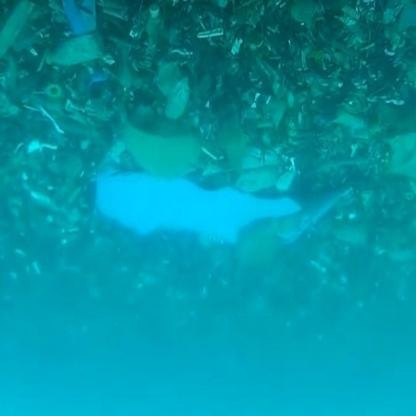plastic: (80, 145, 330, 278)
